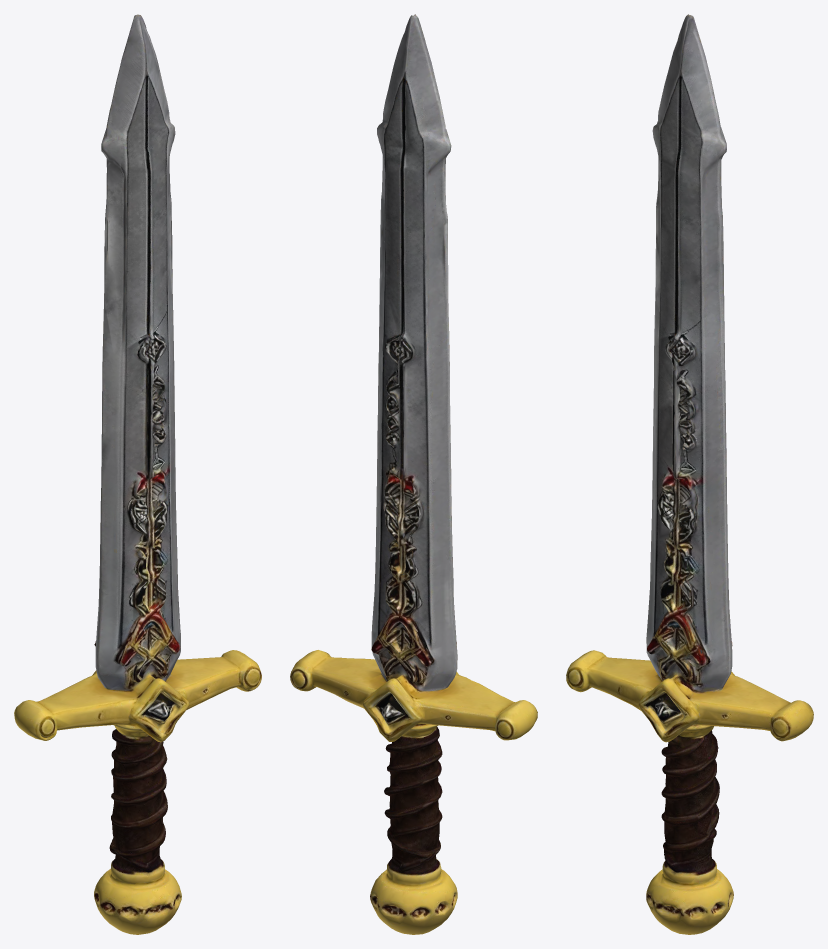
Rendered from espada162.glb.
3 renders of one model, left to right at view 1: azimuth 30°, elevation 25°; view 2: azimuth 150°, elevation 25°; view 3: azimuth 330°, elevation 25°, orthographic.
Parts seen in each view (by area): view 1: tripo_node_f833b930-d4aa-44b8-93f1-9f79a8a3ebf9; view 2: tripo_node_f833b930-d4aa-44b8-93f1-9f79a8a3ebf9; view 3: tripo_node_f833b930-d4aa-44b8-93f1-9f79a8a3ebf9.
Boxes of the visible parts, left/top/right/bottom form: tripo_node_f833b930-d4aa-44b8-93f1-9f79a8a3ebf9: left=14, top=14, right=261, bottom=934; tripo_node_f833b930-d4aa-44b8-93f1-9f79a8a3ebf9: left=290, top=14, right=537, bottom=934; tripo_node_f833b930-d4aa-44b8-93f1-9f79a8a3ebf9: left=566, top=14, right=813, bottom=934.
Bounding box in the file's own units: 0.2597 × 0.9784 × 0.1163.
Materials: 1 (1 with a texture image).
